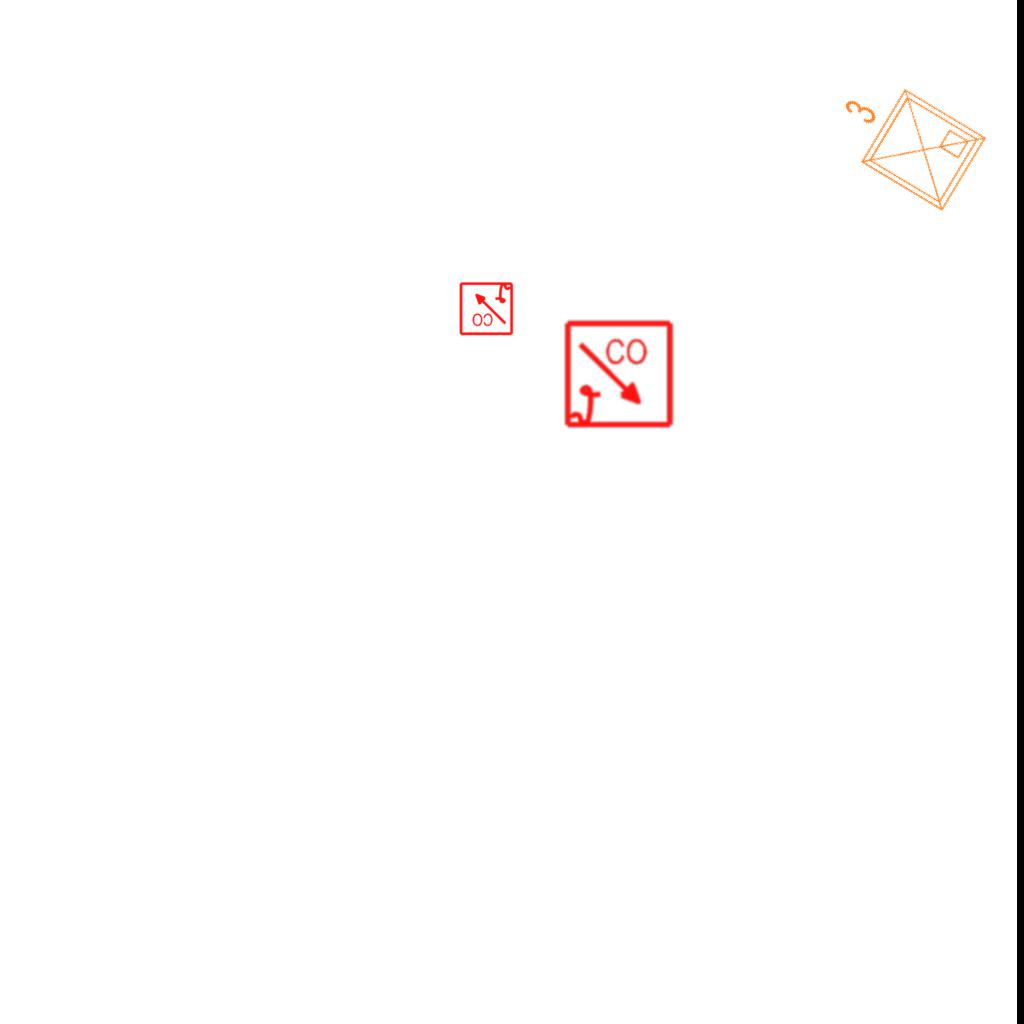Einbaudownlights_LED_Konferenzraeume: (813, 57, 997, 225)
ROA_Rauchmelder_optisch_mit_Signalgeber_(Sockelsirene): (563, 319, 676, 432), (458, 280, 514, 336)
